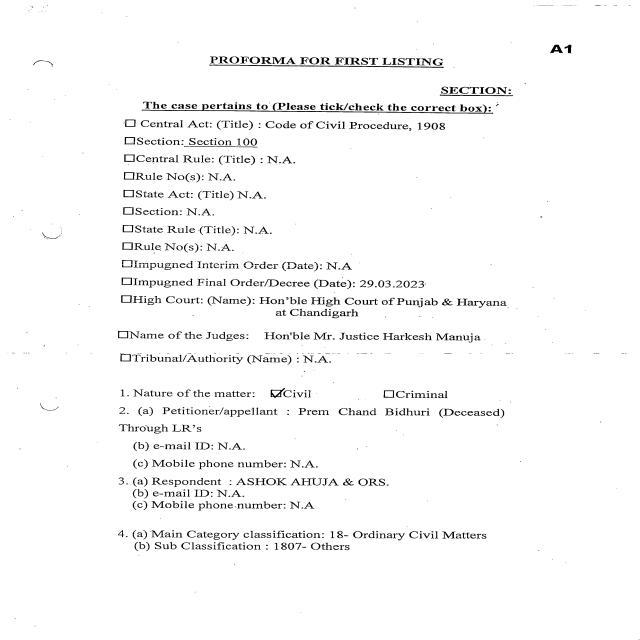page-number: (451, 0, 639, 74)
